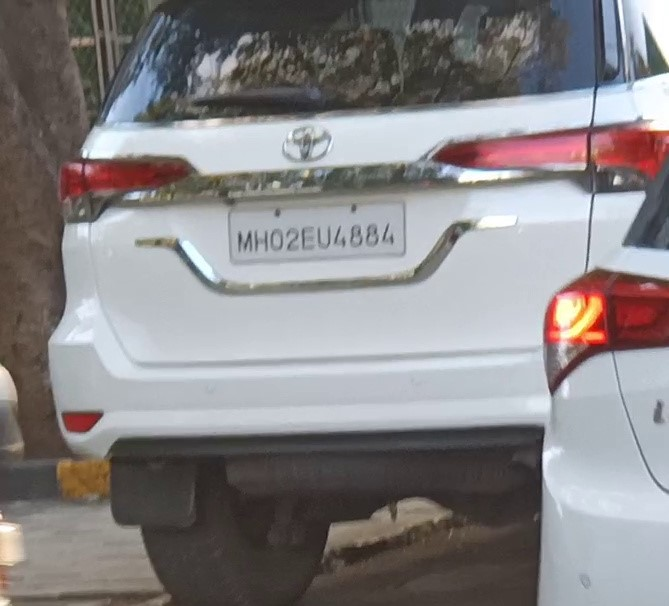MH02EU4884: (230, 200, 405, 263)
